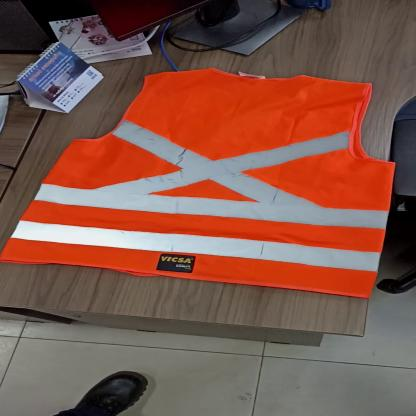colete: (7, 63, 400, 303)
